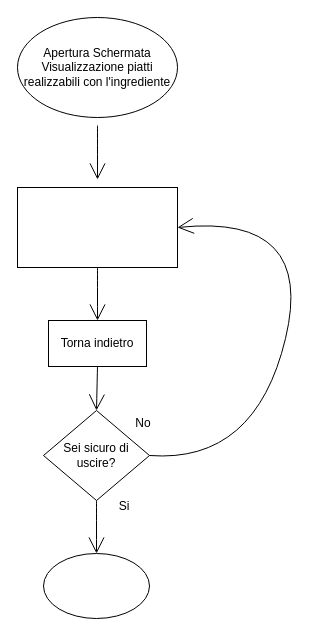
Some shapes in this 309 by 636 pixel diagram are drawn without their labels. Here are the shapes that lost their labels. From the top down, the box of each, then its label:
(16, 186, 178, 268): Visualizza patologie compatibili e piatti realizzabili con l'ingrediente
(42, 552, 150, 618): Ritorno alla scelta dell'ingrediente
